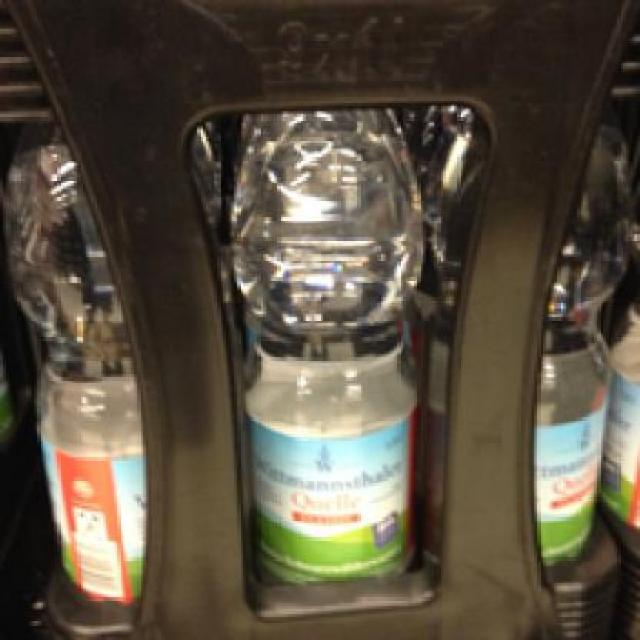Water: (225, 106, 418, 583), (0, 122, 146, 598), (536, 119, 630, 572)
